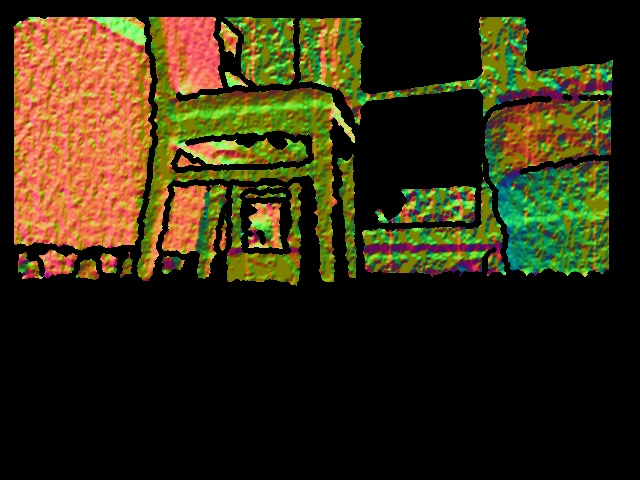station: (225, 179, 305, 286)
